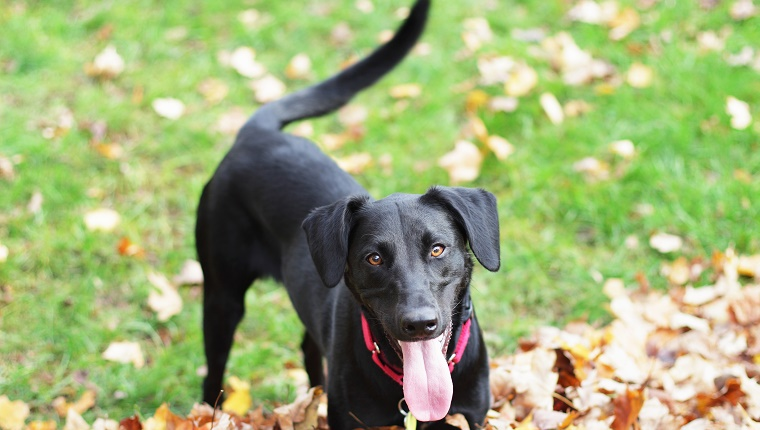tail: (239, 2, 437, 140)
